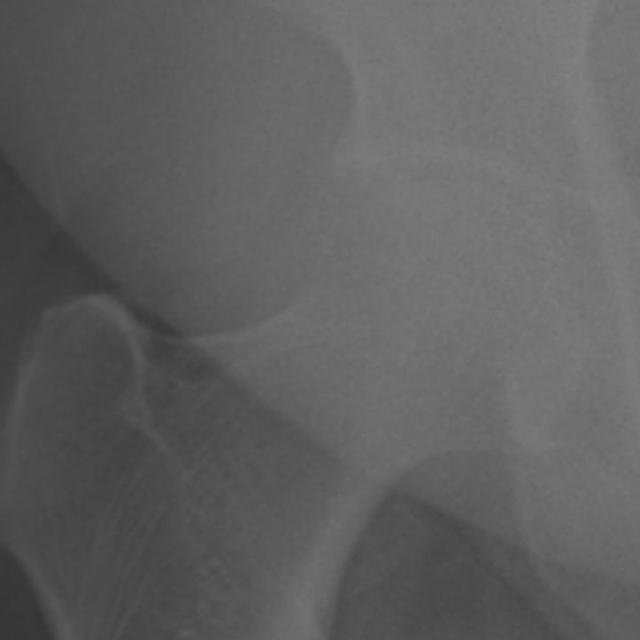Fitted_femural_head: (299, 184, 432, 299)
